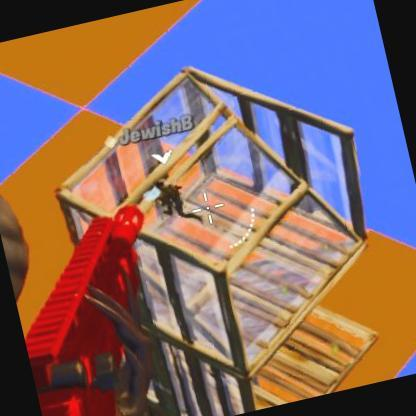person: (152, 175, 196, 230)
